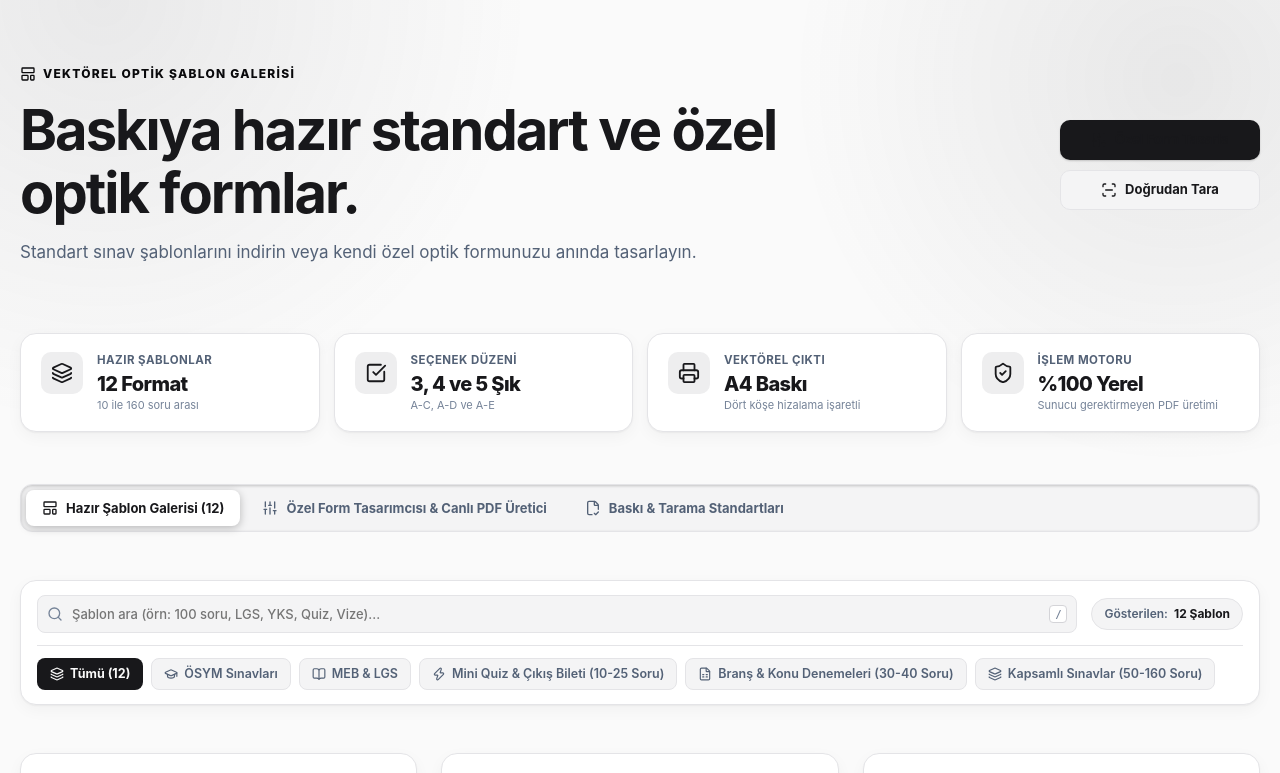
TemplatesPage (Standalone Optik Şablon Galerisi & PDF Üretici) › baskı ve tarama standartları sekmesini görüntüler
The width and height of the screenshot is (1280, 773).
Click the tab "Baskı & Tarama Standartları" at (684, 508), box 569,490 -> 800,526
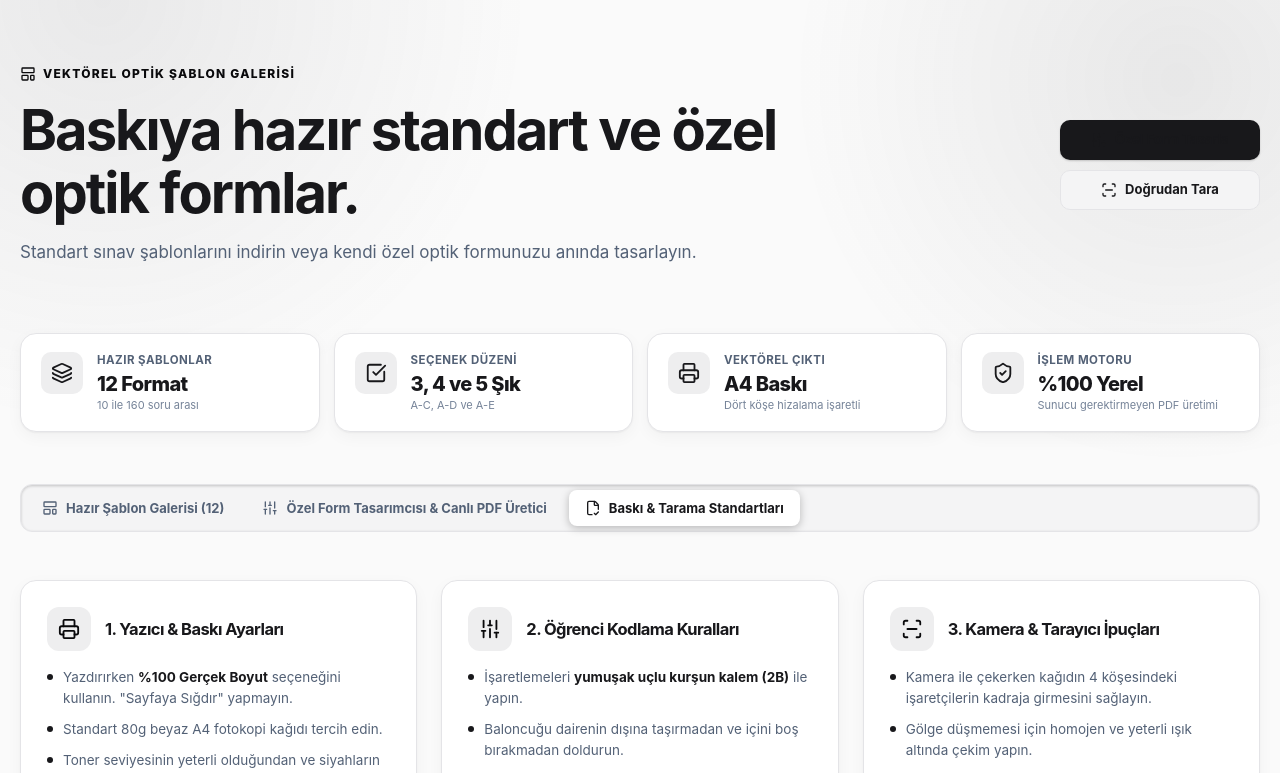
expect the heading "1. Yazıcı & Baskı Ayarları" is shown: met, box 105,620 -> 284,638
expect the heading "2. Öğrenci Kodlama Kuralları" is shown: met, box 526,620 -> 739,638
expect the heading "3. Kamera & Tarayıcı İpuçları" is shown: met, box 948,620 -> 1160,638
